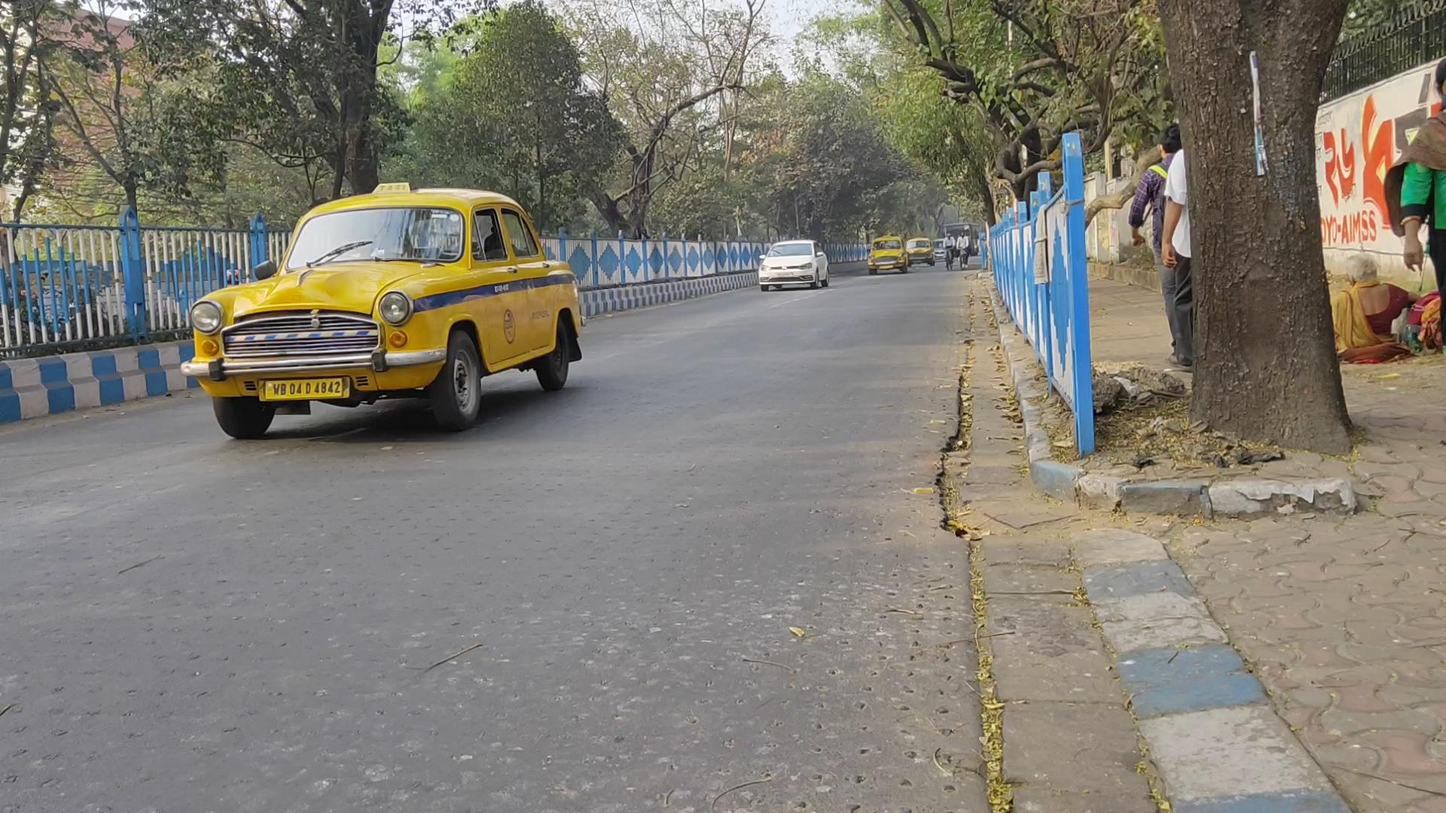bike: (907, 236, 936, 267), (956, 230, 970, 270), (943, 233, 956, 271)
car: (185, 182, 583, 440), (759, 240, 830, 291), (866, 236, 910, 276)
